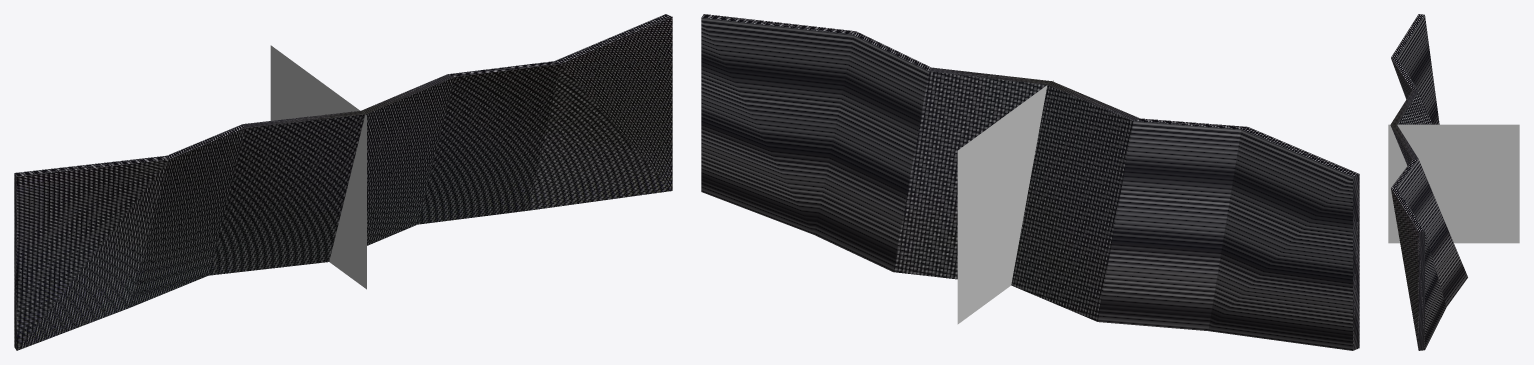
The model's file is Screen_Textured.fbx.
The picture shows the model from 3 angles, left to right: view 1: azimuth 30°, elevation 25°; view 2: azimuth 150°, elevation 25°; view 3: azimuth 270°, elevation 25°; orthographic projection. The views are drawn at different scales.
Visible parts, largest first — view 1: Cube, Plane; view 2: Cube, Plane; view 3: Plane, Cube.
Boxes of the visible parts, <box> form: Cube: <box>14,14,672,350</box>; Plane: <box>270,45,366,289</box>; Cube: <box>701,14,1359,350</box>; Plane: <box>957,80,1053,324</box>; Plane: <box>1388,124,1519,243</box>; Cube: <box>1390,14,1467,350</box>.
Bounding box in the file's own units: 789 × 203 × 200.
